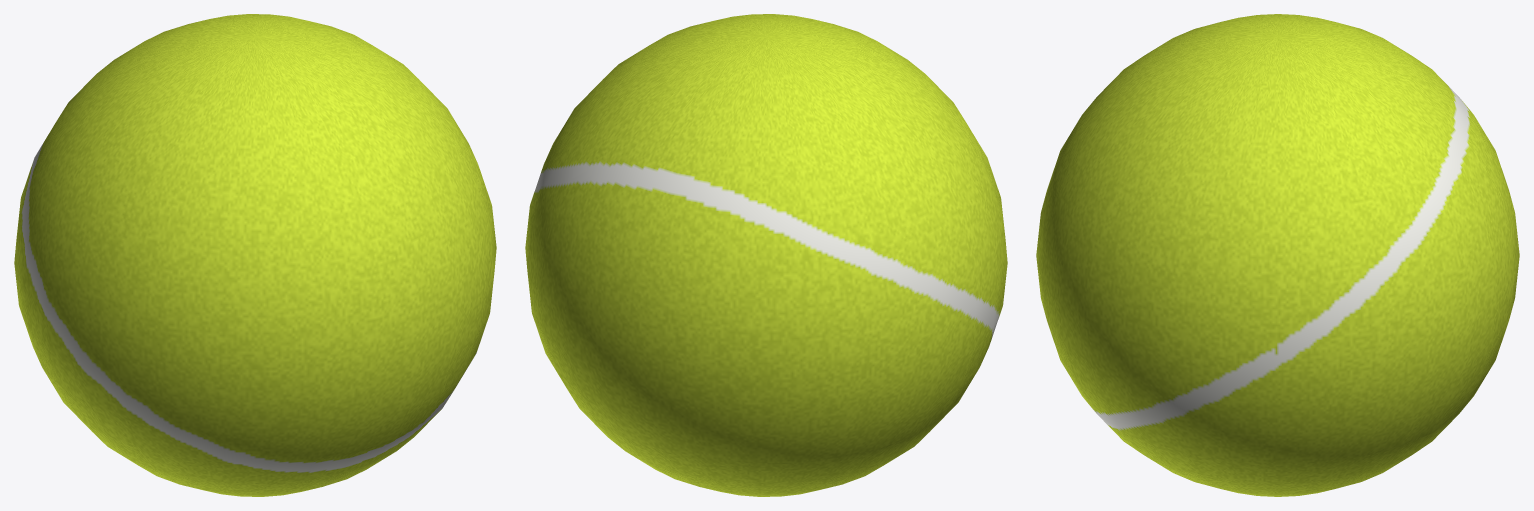
Rendered from pelota.obj.
3 views of the same model, side by side, from view 1: azimuth 30°, elevation 25°; view 2: azimuth 150°, elevation 25°; view 3: azimuth 270°, elevation 25° (orthographic).
Size of the model in its own units: 0.067 by 0.067 by 0.067.
1 material, 1 textured.
